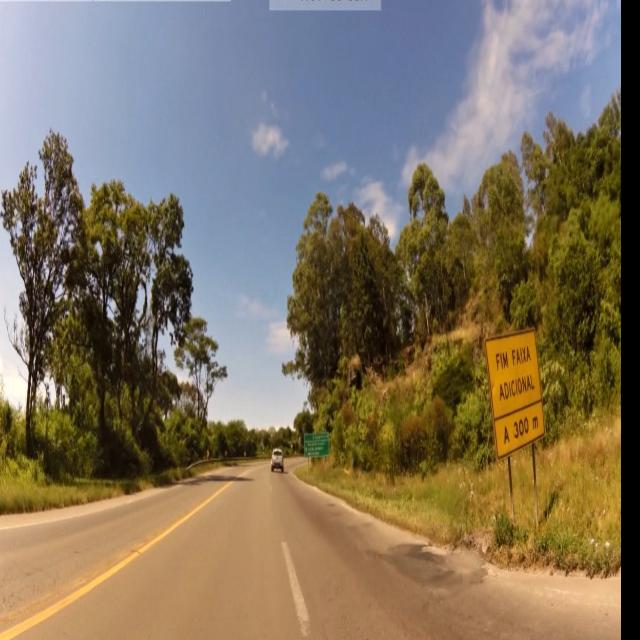ESP-20: (484, 335, 552, 455)
